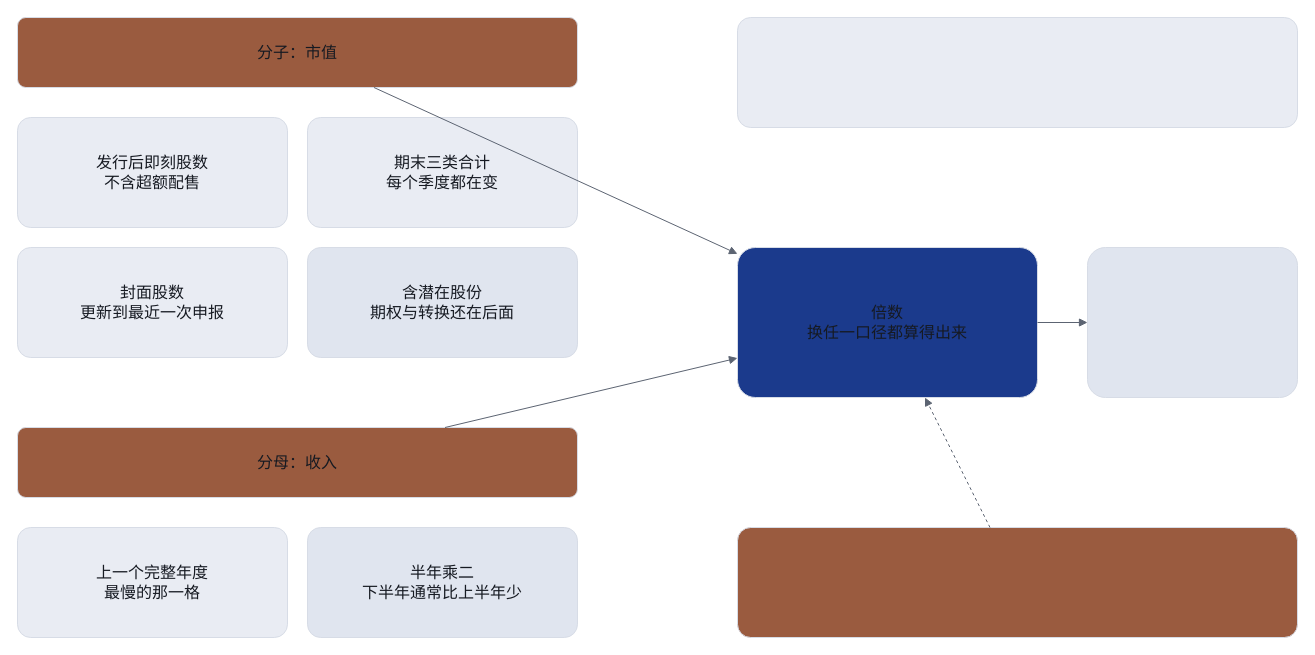
The diagram is 1315 pixels wide and 655 high, and some of its shapes have lost their labels. The shapes that lost their labels are listed below. From the top down, each one's centre as x and y in pixels, then its label:
point 1017,72: 当期报表量不到的那一头 成本结构与可复制性，要往后看几季
point 1192,322: 变的是口径 不是公司
point 1017,582: 本篇只给算法 不给目标市值，也不说贵或便宜
